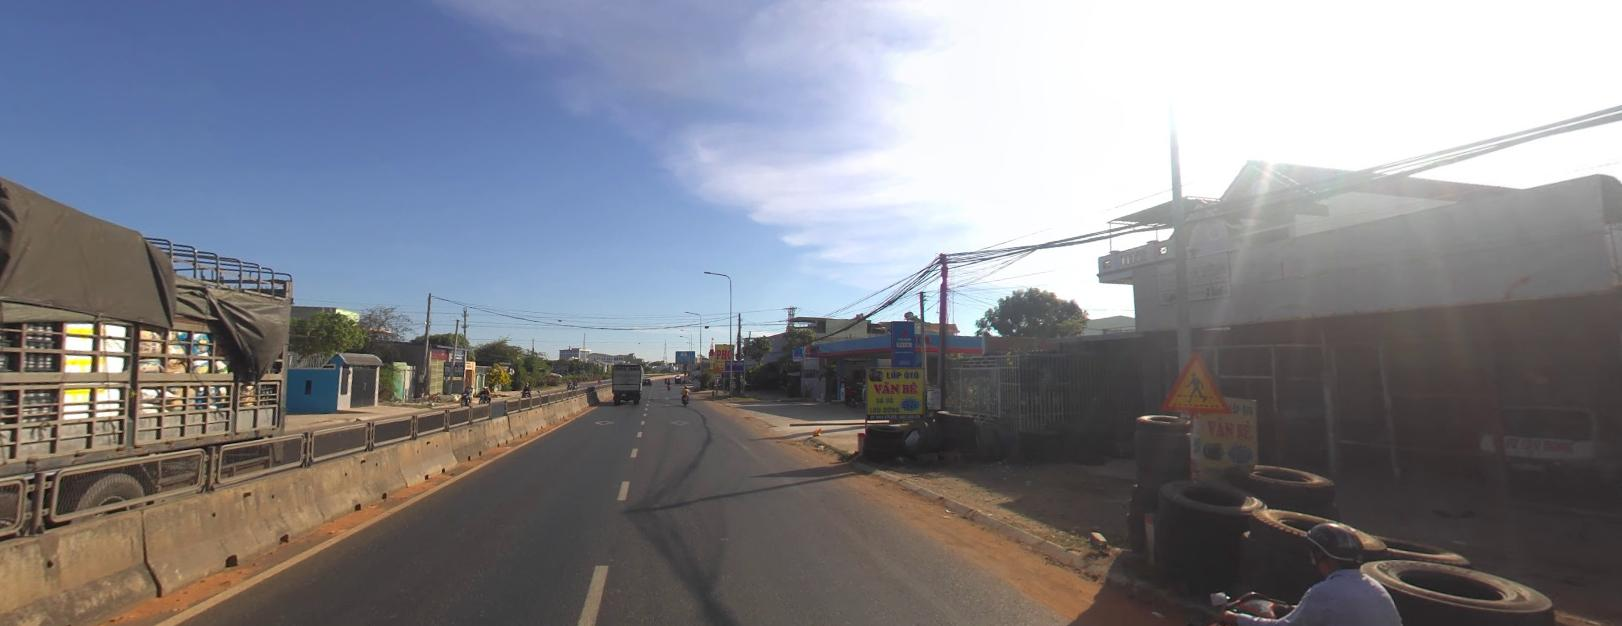Nguy hiem: (1160, 353, 1233, 417), (713, 364, 721, 372)
